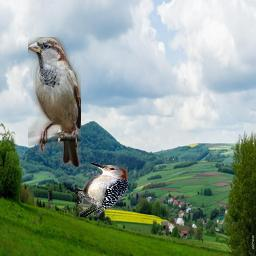Sparrow: (28, 37, 81, 167)
Woodpecker: (75, 162, 128, 217)
